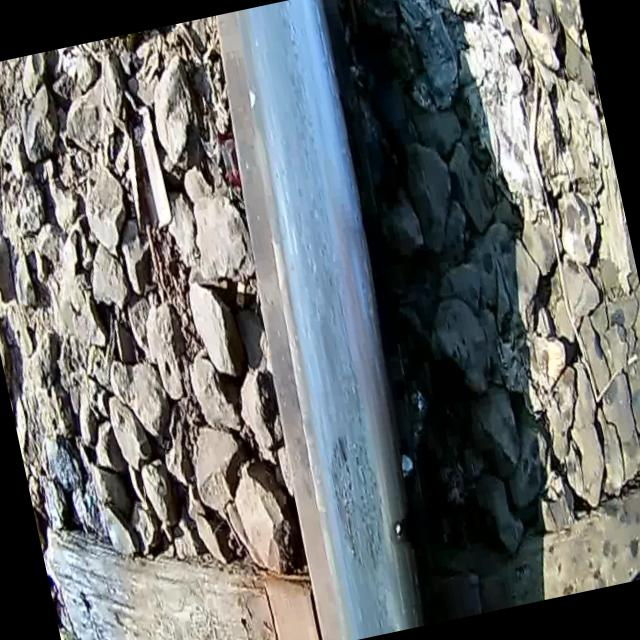Squats: (186, 0, 471, 640)
